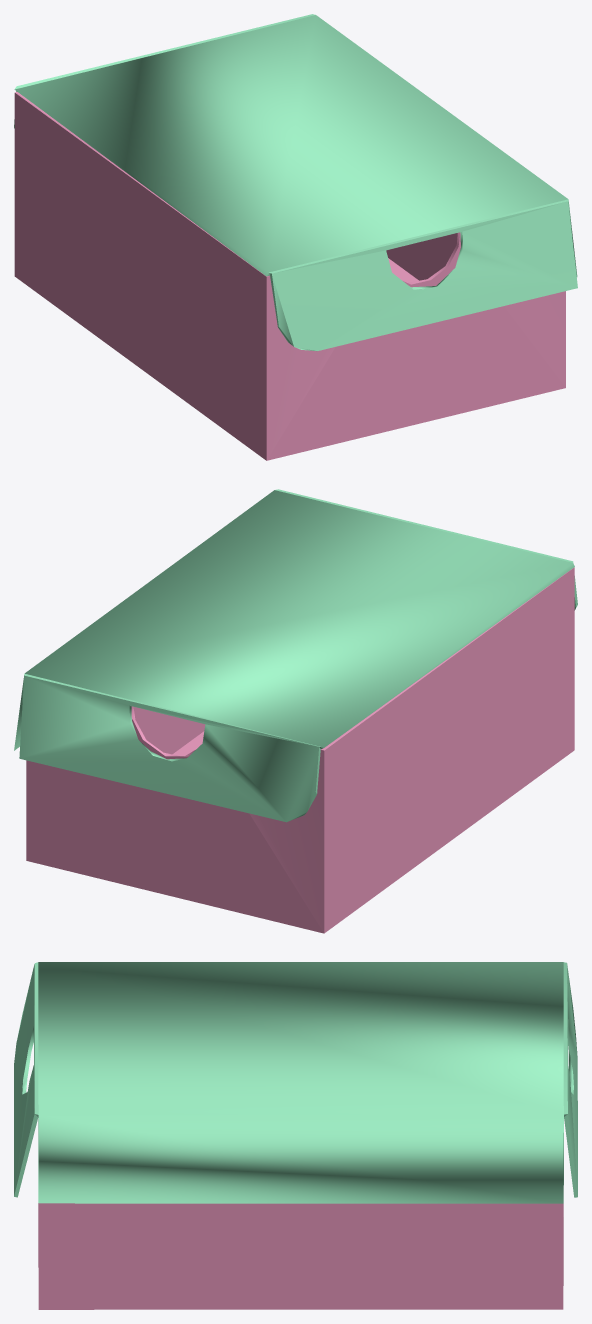
The model's file is shoebox_lowPoly.fbx.
3 views of the same model, one above another, from view 1: azimuth 30°, elevation 25°; view 2: azimuth 150°, elevation 25°; view 3: azimuth 270°, elevation 25° (orthographic). The views are drawn at different scales.
Visible parts, largest first — view 1: Korobka_1; view 2: Korobka_1; view 3: Korobka_1.
Part boxes in pixels (x1=…): Korobka_1: x1=14, y1=14, x2=577, y2=460; Korobka_1: x1=14, y1=489, x2=577, y2=933; Korobka_1: x1=14, y1=962, x2=577, y2=1309.
Bounding box in the file's own units: 10646 × 6139 × 15976.
